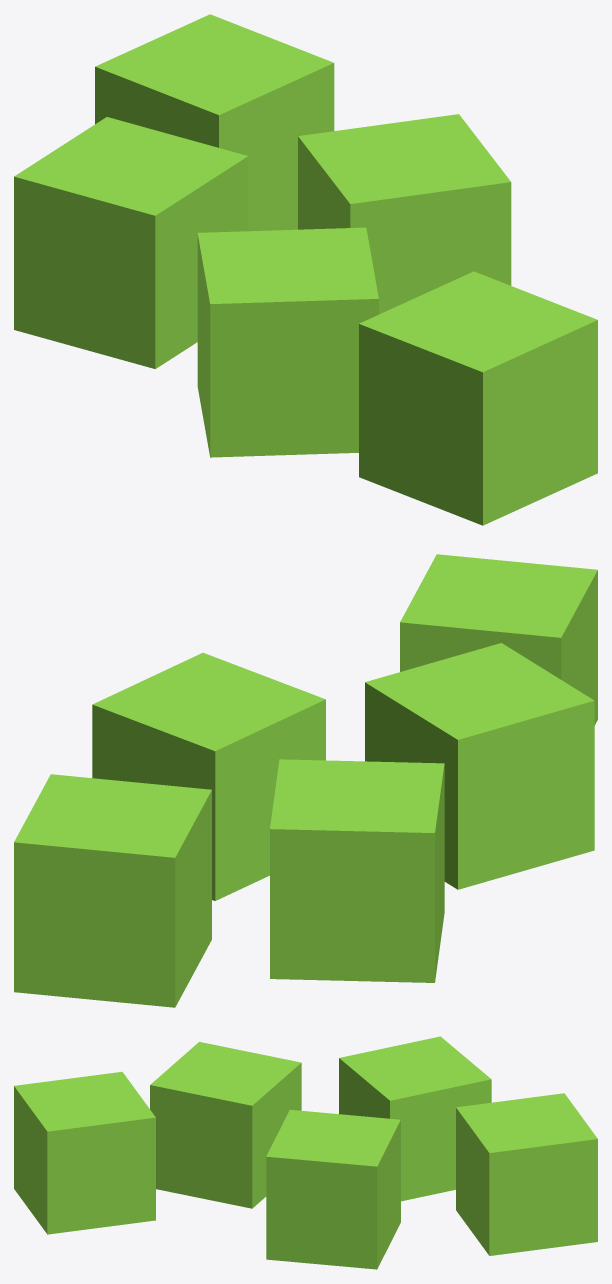
File: diced_avocado.fbx
3 views of the same model, one above another, from view 1: azimuth 30°, elevation 25°; view 2: azimuth 150°, elevation 25°; view 3: azimuth 270°, elevation 25° (orthographic). The views are drawn at different scales.
Parts seen in each view (by area): view 1: DicedAvocado; view 2: DicedAvocado; view 3: DicedAvocado.
Part boxes in pixels (x1,y1,x2,y2): DicedAvocado: (14, 14, 597, 525); DicedAvocado: (14, 554, 597, 1007); DicedAvocado: (14, 1036, 597, 1269).
Bounding box in the file's own units: 61.83 × 22.78 × 117.
